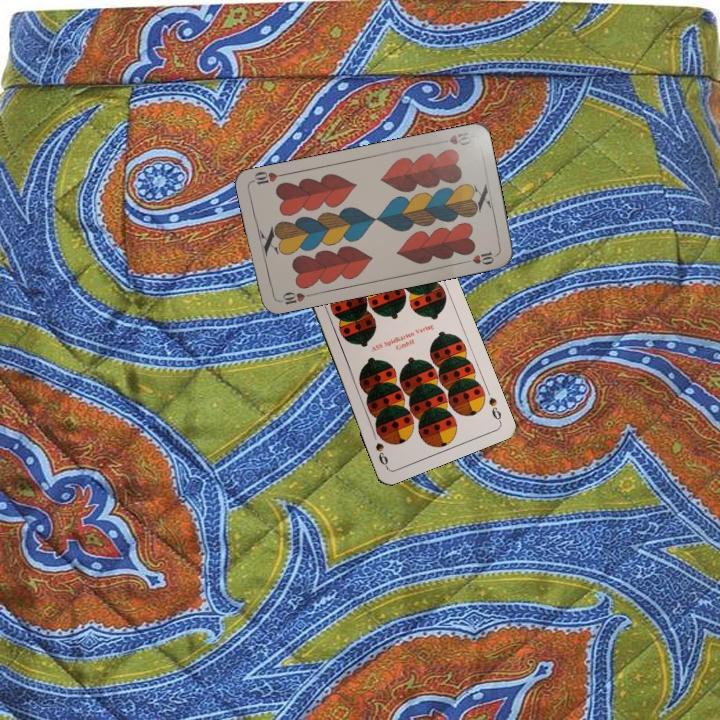H10: (434, 127, 474, 148), (274, 288, 314, 307)
S9: (485, 393, 504, 425)
